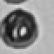correct: (0, 5, 43, 51)
